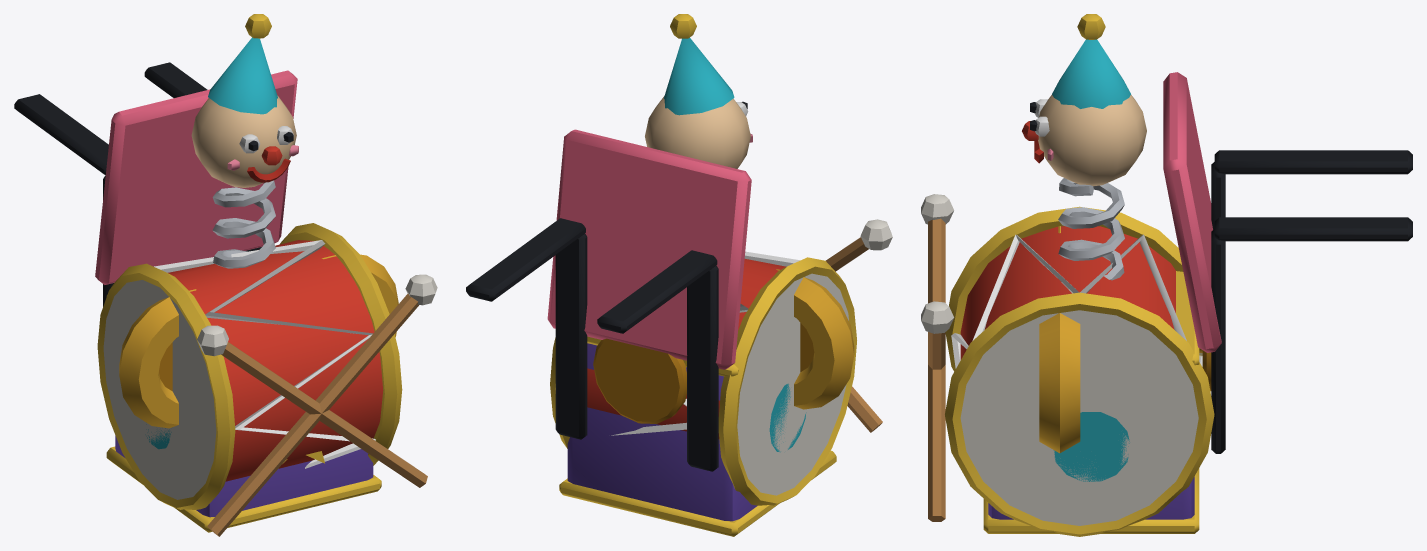
File: 2026-11-27_dos.glb
3 views of the same model, side by side, from view 1: azimuth 30°, elevation 25°; view 2: azimuth 150°, elevation 25°; view 3: azimuth 270°, elevation 25° (orthographic). The views are drawn at different scales.
Parts seen in each view (by area): view 1: dos_tambour_jouet, dos_boite_a_surprise, dos_cle_de_remontage; view 2: dos_boite_a_surprise, dos_tambour_jouet, dos_cle_de_remontage; view 3: dos_tambour_jouet, dos_boite_a_surprise, dos_cle_de_remontage.
Boxes of the visible parts, <box> form: dos_tambour_jouet: <box>97,223,437,536</box>; dos_boite_a_surprise: <box>14,14,381,532</box>; dos_cle_de_remontage: <box>119,254,398,428</box>; dos_boite_a_surprise: <box>466,14,836,536</box>; dos_tambour_jouet: <box>550,219,892,505</box>; dos_cle_de_remontage: <box>593,269,854,423</box>; dos_tambour_jouet: <box>921,194,1214,536</box>; dos_boite_a_surprise: <box>983,14,1412,533</box>; dos_cle_de_remontage: <box>1039,226,1211,453</box>.
Bounding box in the file's own units: 0.43 × 0.678 × 0.6198.
